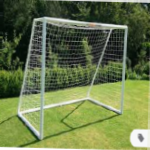goals: (16, 14, 128, 141)
